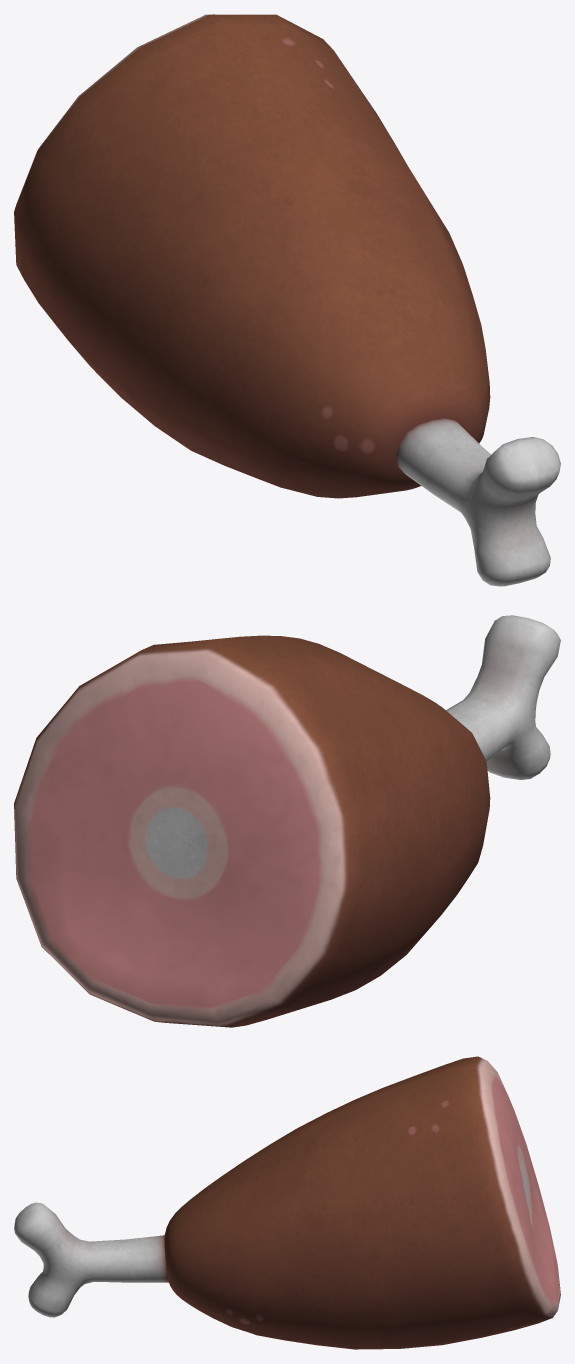
The model's file is cordero terminado.fbx.
The picture shows the model from 3 angles, top to bottom: view 1: azimuth 30°, elevation 25°; view 2: azimuth 150°, elevation 25°; view 3: azimuth 270°, elevation 25°; orthographic projection. The views are drawn at different scales.
Visible parts, largest first — view 1: Cordero entero; view 2: Cordero entero; view 3: Cordero entero.
Boxes of the visible parts, <box> form: Cordero entero: <box>14,14,560,586</box>; Cordero entero: <box>14,615,560,1027</box>; Cordero entero: <box>14,1056,560,1349</box>.
Bounding box in the file's own units: 893 × 946 × 1729.
